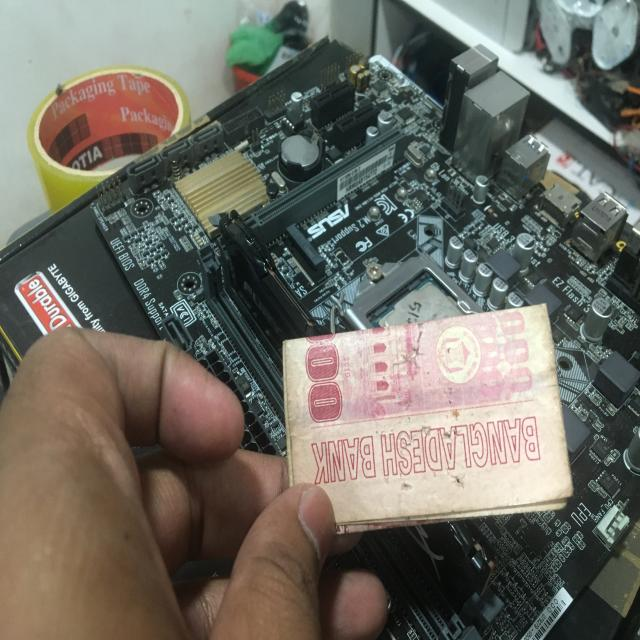Taka: (284, 323, 568, 517)
